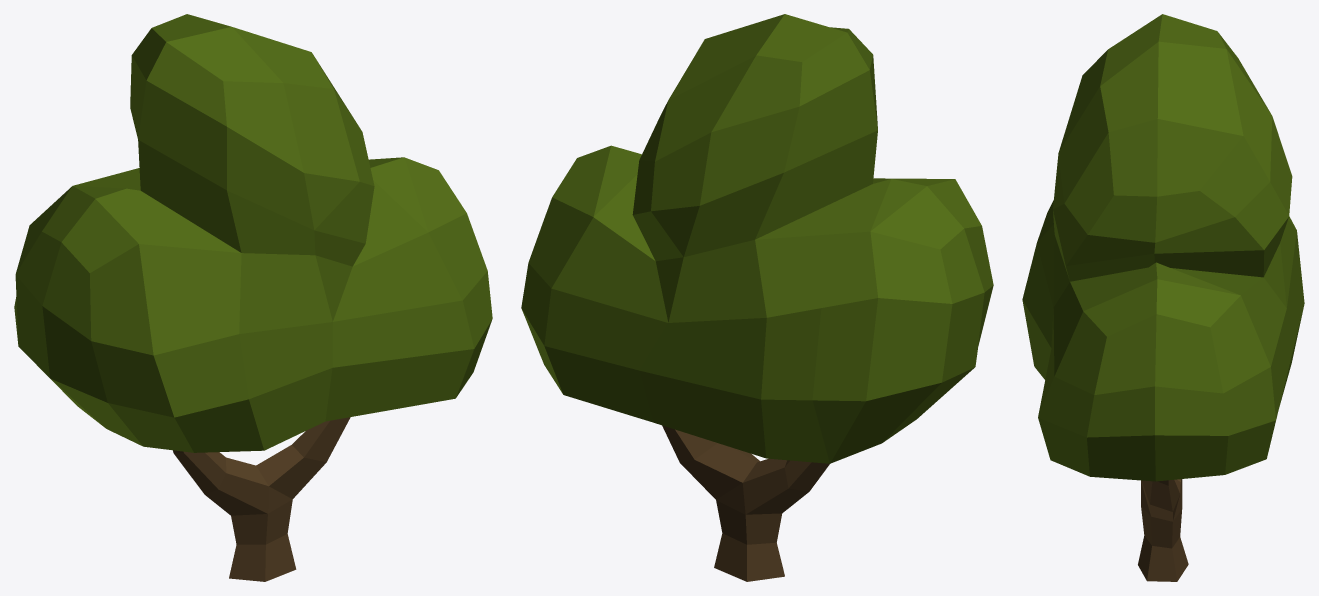
Rendered from TreesAndBushes_056.fbx.
3 renders of one model, left to right at view 1: azimuth 30°, elevation 25°; view 2: azimuth 150°, elevation 25°; view 3: azimuth 270°, elevation 25°, orthographic. The views are drawn at different scales.
Parts seen in each view (by area): view 1: TreesAndBushes_056; view 2: TreesAndBushes_056; view 3: TreesAndBushes_056.
Boxes of the visible parts, x1=… form: TreesAndBushes_056: x1=14, y1=14, x2=492, y2=581; TreesAndBushes_056: x1=521, y1=14, x2=993, y2=581; TreesAndBushes_056: x1=1022, y1=14, x2=1304, y2=581.
Size of the model in its own units: 91.66 by 110 by 54.91.
